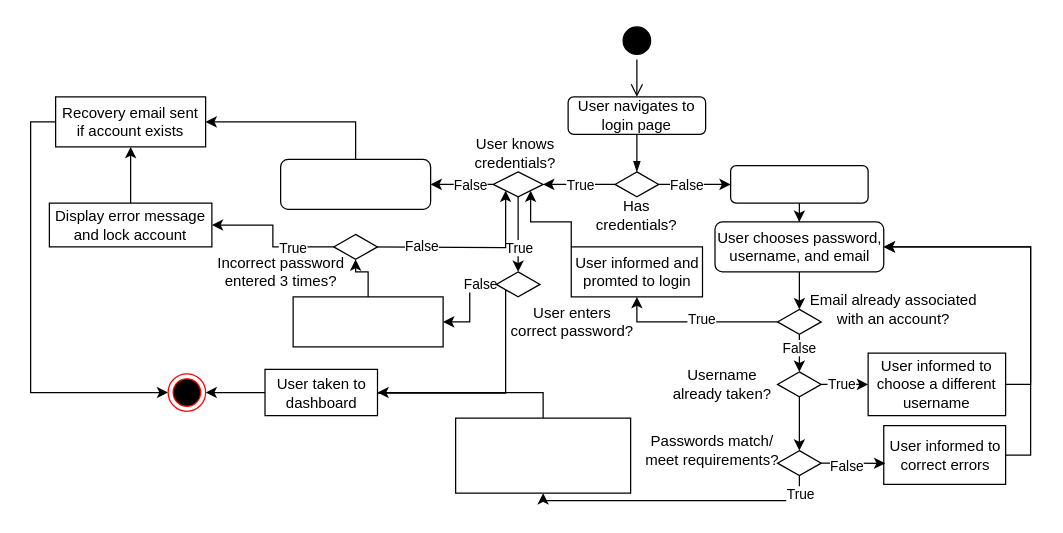
Some shapes in this 1063 by 533 pixel diagram are drawn without their labels. Each missing label, with the centre of its shape:
Incorrect password message: [367,321]
New account created for user, email is sent out for them to verify account.: [542,455]
User selects "Forgot Password": [355,183]
User selects "New Account": [798,183]
